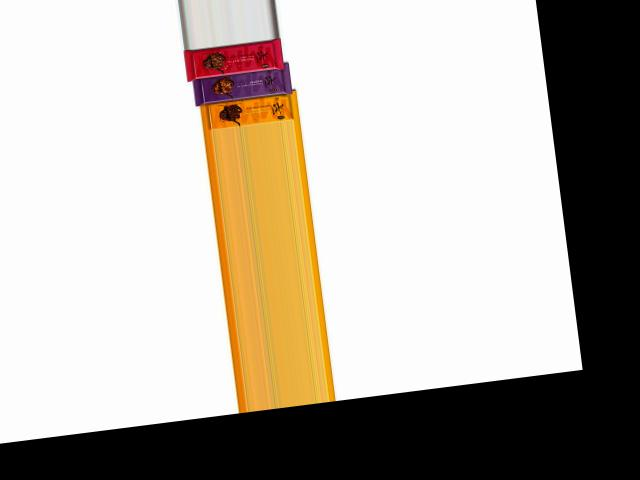chocolate: (177, 36, 288, 81)
